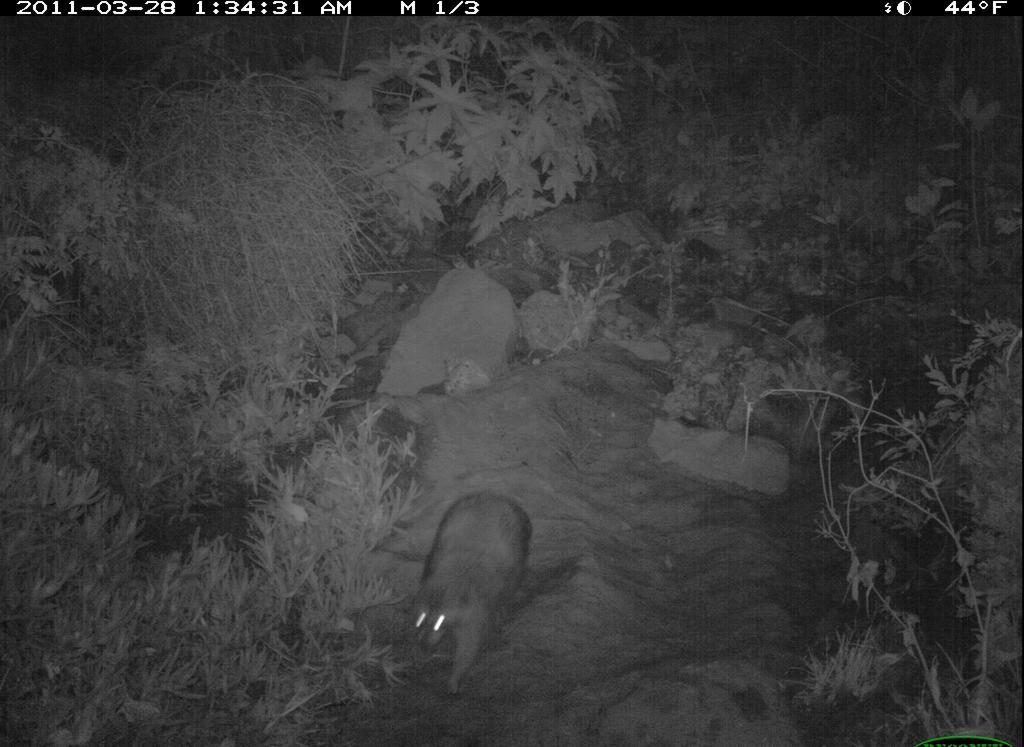raccoon: (397, 486, 542, 703)
